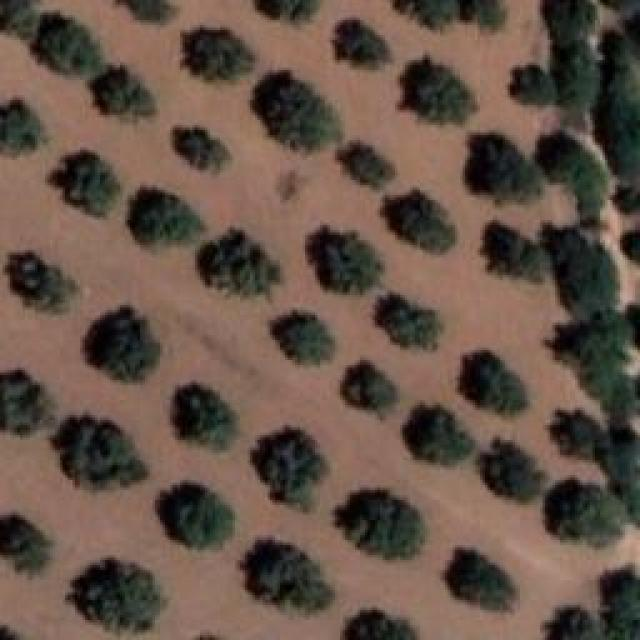Tree: (555, 310, 640, 428), (540, 225, 615, 321), (253, 72, 342, 152), (68, 557, 162, 632), (53, 418, 149, 490), (535, 133, 608, 226), (243, 540, 336, 611), (335, 490, 424, 560), (253, 428, 328, 510), (85, 307, 161, 382), (198, 230, 281, 296), (545, 478, 624, 546), (400, 58, 478, 125), (308, 225, 384, 293), (465, 135, 540, 203), (158, 484, 233, 548), (33, 15, 106, 80), (383, 190, 458, 253), (50, 150, 121, 216), (445, 548, 518, 610), (477, 437, 545, 502), (460, 350, 530, 413), (128, 188, 204, 246), (403, 405, 474, 466), (10, 253, 75, 314), (173, 388, 236, 450), (183, 28, 253, 81), (375, 294, 443, 348), (488, 225, 551, 283), (0, 370, 52, 435), (340, 360, 398, 418), (273, 310, 336, 363), (90, 65, 155, 116), (0, 515, 51, 575), (338, 143, 397, 190), (335, 20, 389, 70), (550, 410, 601, 461), (605, 567, 640, 640), (175, 127, 229, 172), (0, 100, 42, 157), (343, 610, 418, 640), (543, 0, 596, 40), (545, 607, 605, 640), (392, 0, 463, 27), (510, 65, 556, 106), (255, 0, 321, 22), (0, 0, 36, 39), (462, 0, 502, 29), (125, 0, 173, 22), (615, 180, 640, 218), (617, 230, 639, 264)
